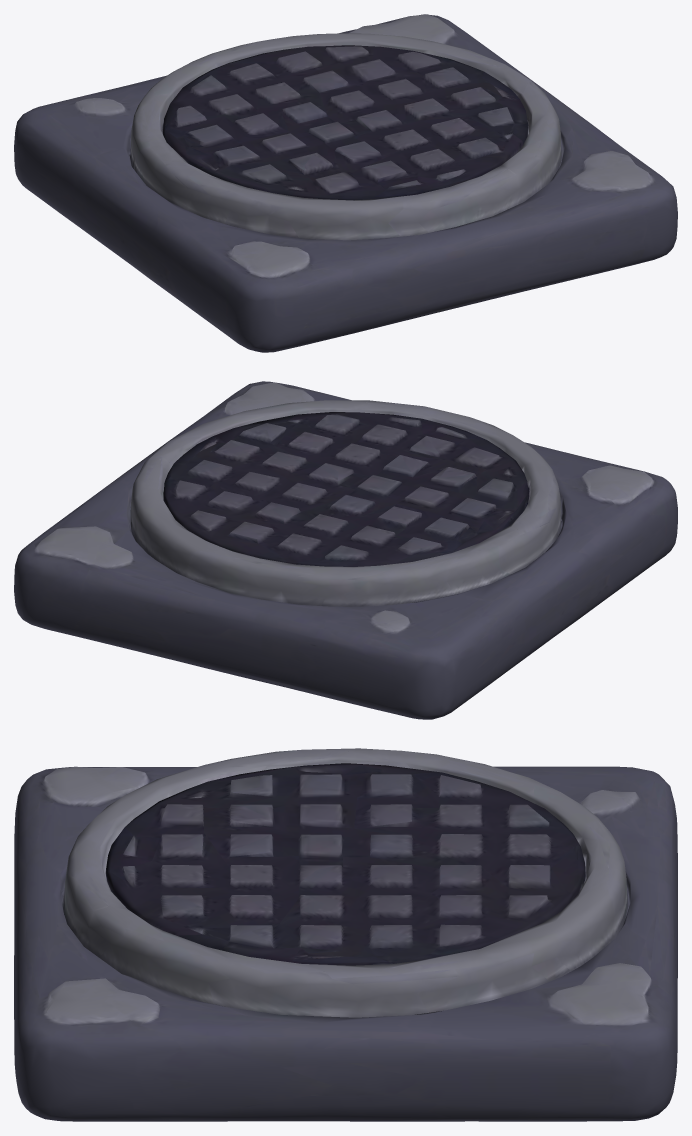
The model's file is manhole_steam.glb.
3 views of the same model, one above another, from view 1: azimuth 30°, elevation 25°; view 2: azimuth 150°, elevation 25°; view 3: azimuth 270°, elevation 25° (orthographic). The views are drawn at different scales.
Visible parts, largest first — view 1: tripo_node_9d8557b3-8578-4655-8e72-fe7ba9ba0676; view 2: tripo_node_9d8557b3-8578-4655-8e72-fe7ba9ba0676; view 3: tripo_node_9d8557b3-8578-4655-8e72-fe7ba9ba0676.
Part boxes in pixels (x1,y1,x2,y2): tripo_node_9d8557b3-8578-4655-8e72-fe7ba9ba0676: [14, 14, 677, 352]; tripo_node_9d8557b3-8578-4655-8e72-fe7ba9ba0676: [14, 381, 677, 719]; tripo_node_9d8557b3-8578-4655-8e72-fe7ba9ba0676: [14, 748, 677, 1121].
Bounding box in the file's own units: 0.9786 × 0.2201 × 0.9796.
Materials: 1 (1 with a texture image).
